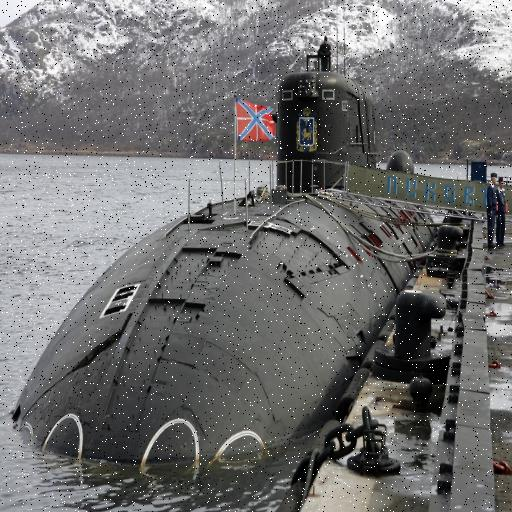submarine: (3, 23, 451, 475)
